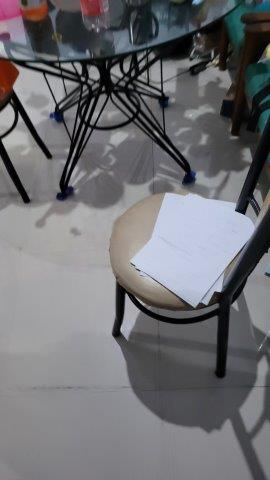kertas: (124, 192, 259, 307)
